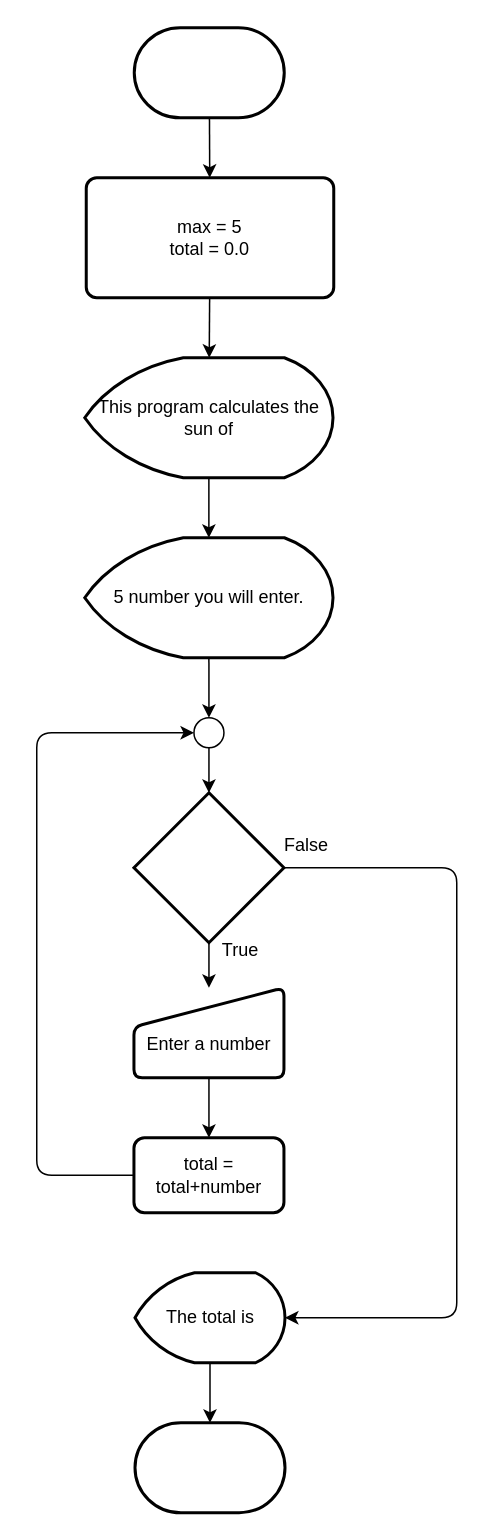
The diagram is 495 pixels wide and 1539 high, and some of its shapes have lost their labels. The shapes that lost their labels are listed below. From the top down, each one's centre as x and y in pixels, then its label:
At pixel 208 72: "Start".
At pixel 208 867: "counter in range(max)".
At pixel 209 1467: "End".
